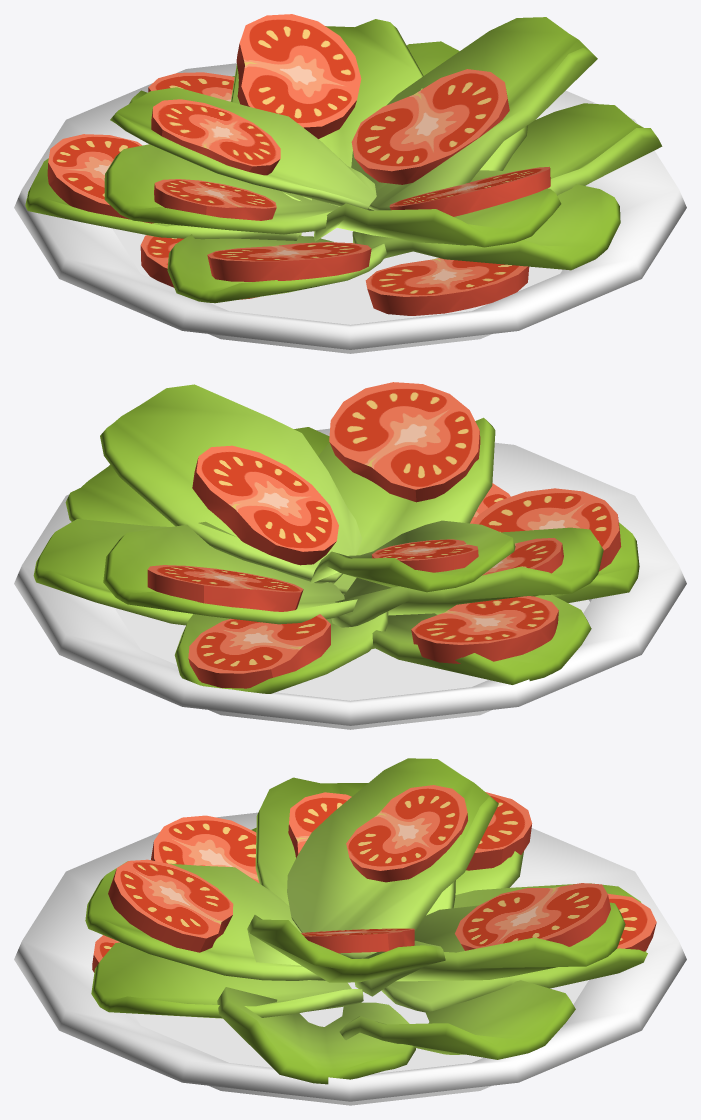
File: TomatoLettuceSalad.fbx
3 views of the same model, one above another, from view 1: azimuth 30°, elevation 25°; view 2: azimuth 150°, elevation 25°; view 3: azimuth 270°, elevation 25° (orthographic).
Parts seen in each view (by area): view 1: TomatoLettuceSalad, LettuceSalad.035, TomatoSalad.034, TomatoSalad.028, LettuceSalad.037, LettuceSalad.033, LettuceSalad.029, LettuceSalad.036, LettuceSalad.032, TomatoSalad.029, LettuceSalad.034, TomatoSalad.035 (+9 smaller); view 2: TomatoLettuceSalad, LettuceSalad.035, TomatoSalad.033, TomatoSalad.028, LettuceSalad.034, LettuceSalad.033, LettuceSalad.032, TomatoSalad.032, TomatoSalad.031, LettuceSalad.037, LettuceSalad.031, LettuceSalad.028 (+7 smaller); view 3: TomatoLettuceSalad, LettuceSalad.037, LettuceSalad.029, LettuceSalad.036, LettuceSalad.028, LettuceSalad.032, LettuceSalad.034, TomatoSalad.035, TomatoSalad.033, TomatoSalad.034, LettuceSalad.027, LettuceSalad.035 (+7 smaller).
Boxes of the visible parts, x1,y1,x2,y2 form: TomatoLettuceSalad: [14, 63, 686, 353]; LettuceSalad.035: [351, 17, 597, 210]; TomatoSalad.034: [236, 14, 361, 138]; TomatoSalad.028: [351, 69, 509, 184]; LettuceSalad.037: [110, 87, 376, 209]; LettuceSalad.033: [104, 144, 339, 234]; LettuceSalad.029: [352, 170, 620, 270]; LettuceSalad.036: [503, 103, 662, 195]; LettuceSalad.032: [314, 175, 561, 247]; TomatoSalad.029: [365, 258, 529, 315]; LettuceSalad.034: [230, 19, 423, 206]; TomatoSalad.035: [151, 99, 280, 175]; TomatoLettuceSalad: [14, 428, 686, 729]; LettuceSalad.035: [100, 384, 362, 583]; TomatoSalad.033: [329, 382, 480, 502]; TomatoSalad.028: [192, 445, 338, 565]; LettuceSalad.034: [103, 521, 357, 624]; LettuceSalad.033: [331, 527, 603, 627]; LettuceSalad.032: [318, 417, 495, 595]; TomatoSalad.032: [188, 614, 330, 688]; TomatoSalad.031: [411, 596, 558, 663]; LettuceSalad.037: [310, 520, 515, 592]; LettuceSalad.031: [371, 594, 591, 684]; LettuceSalad.028: [33, 519, 192, 625]; TomatoLettuceSalad: [14, 812, 686, 1105]; LettuceSalad.037: [287, 758, 498, 958]; LettuceSalad.029: [91, 942, 363, 1018]; LettuceSalad.036: [217, 987, 415, 1084]; LettuceSalad.028: [339, 980, 575, 1059]; LettuceSalad.032: [85, 861, 325, 980]; LettuceSalad.034: [355, 902, 625, 996]; TomatoSalad.035: [346, 785, 467, 882]; TomatoSalad.033: [108, 859, 233, 952]; TomatoSalad.034: [455, 883, 610, 950]; LettuceSalad.027: [381, 883, 647, 1012]; LettuceSalad.035: [247, 915, 445, 982].
Size of the model in its own units: 0.6132 by 0.1811 by 0.6132.
3 materials, 3 textured.
